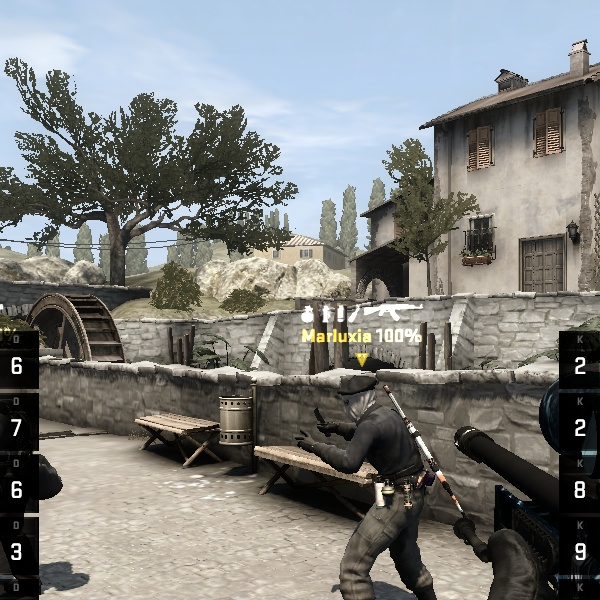t_body: (275, 366, 454, 600)
